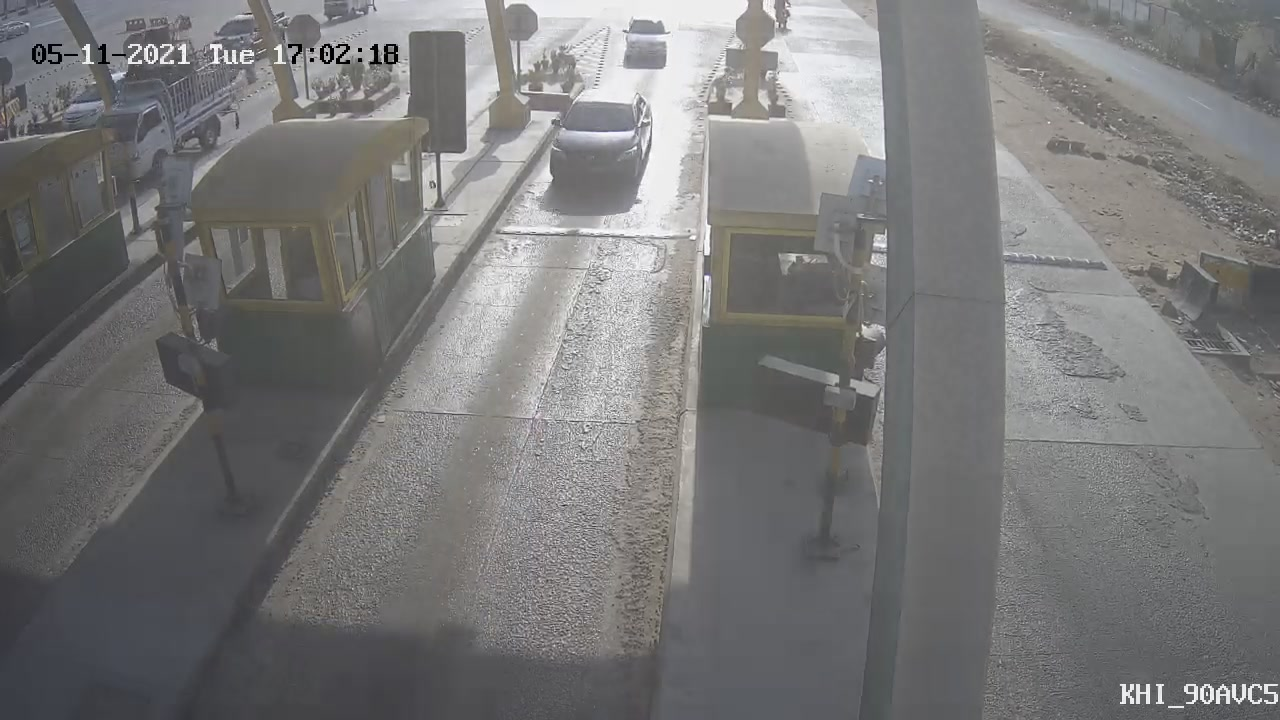F1: (527, 64, 669, 216)
